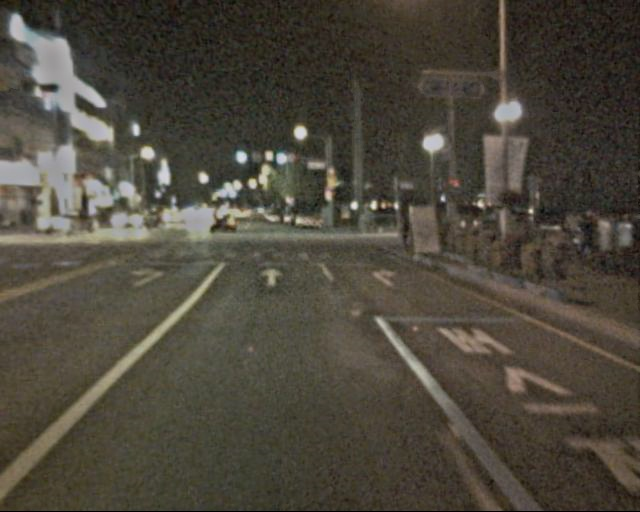person: (573, 209, 596, 266), (394, 211, 415, 261), (555, 215, 575, 264)
